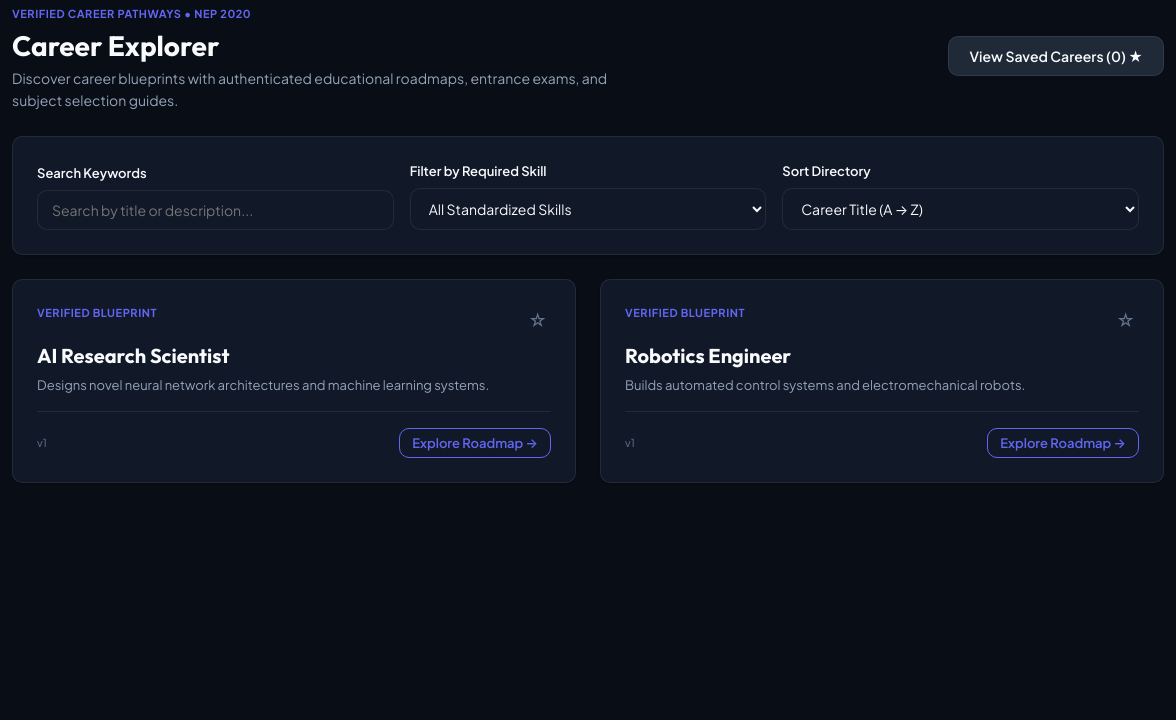
Test: Career Explorer & Details (CareerExplorerPage, CareerDetailPage, SavedCareersPage) › CareerExplorerPage › filters careers by skill selection and displays all matching transversal careers
Expected: the heading "AI Research Scientist" is shown, [37,343,229,368]
Select "Python" in the dropdown labelled "Filter by Required Skill" at (588, 209), box [410,188,766,230]
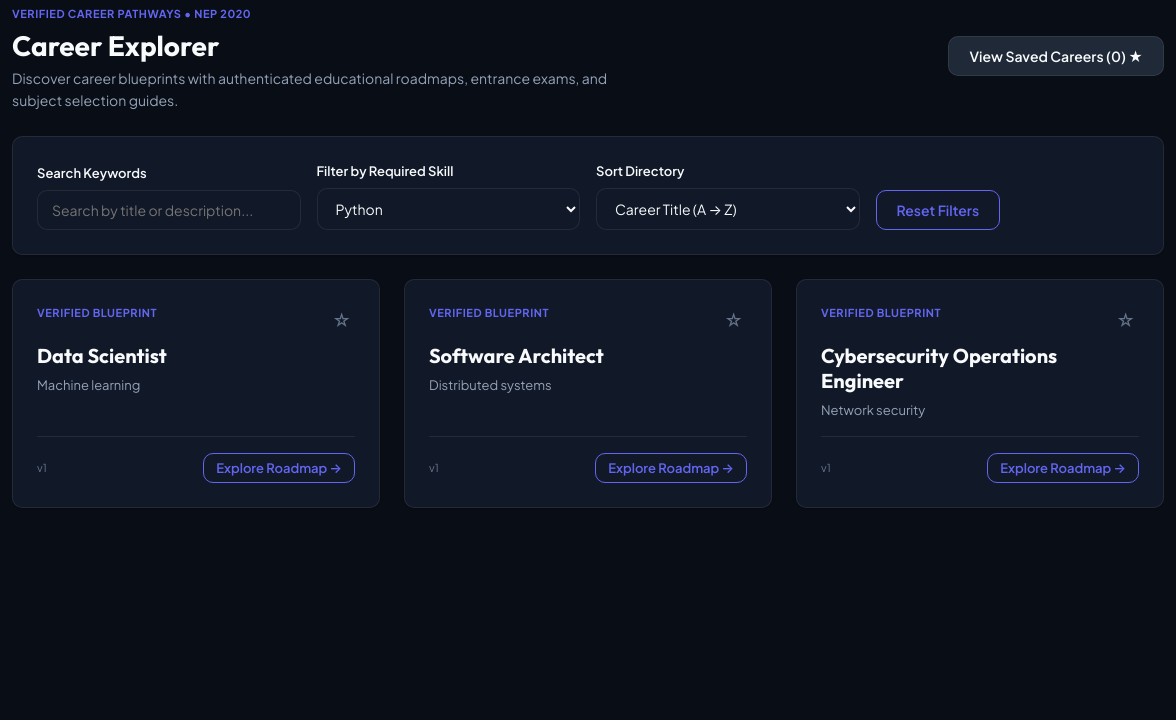
Expected: the heading "Data Scientist" is shown, [37,343,167,368]
Expected: the heading "Software Architect" is shown, [429,343,604,368]
Expected: the heading "Cybersecurity Operations Engineer" is shown, [821,343,1057,393]
